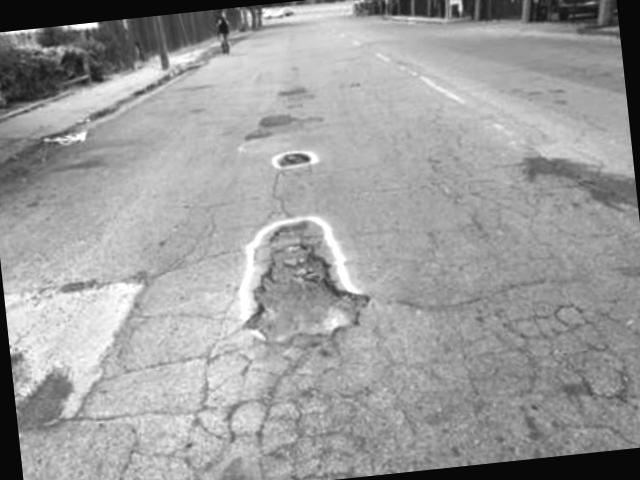Pothole: (223, 210, 379, 362), (506, 142, 640, 234), (241, 105, 329, 151), (270, 146, 322, 180), (272, 80, 313, 106)
